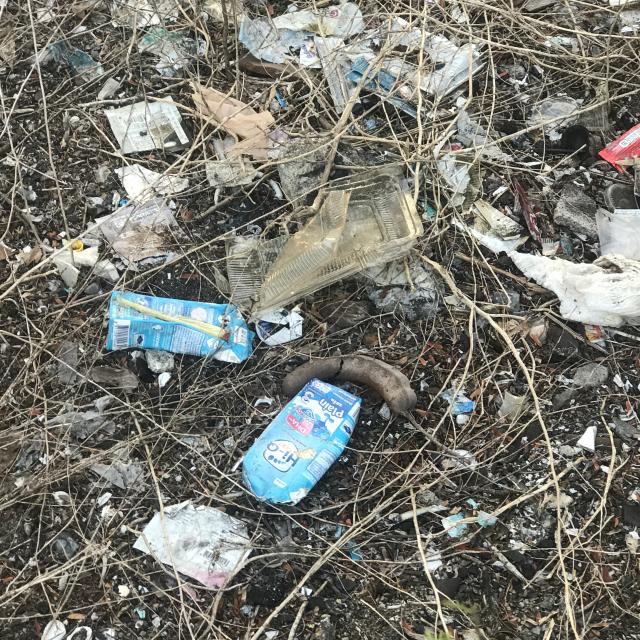Single-layer Plastic: (510, 209, 640, 328)
